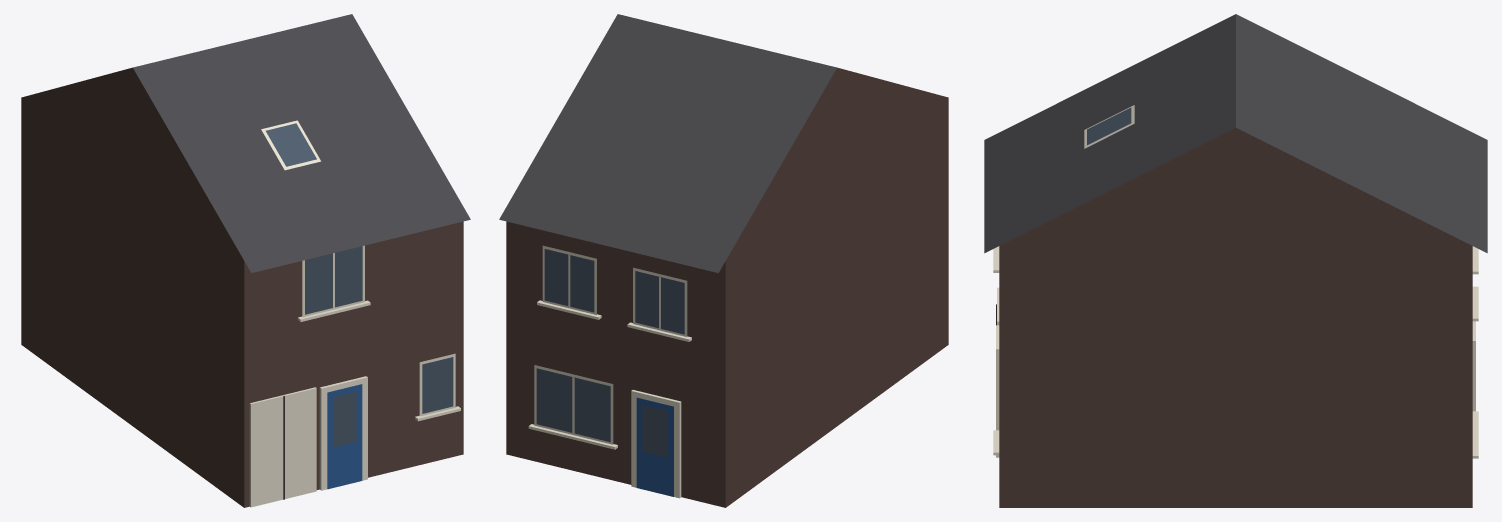
The model's file is nw-rowhouse-garage-door__cream-blue-slate__2__gable__long__solid.glb.
3 views of the same model, side by side, from view 1: azimuth 30°, elevation 25°; view 2: azimuth 150°, elevation 25°; view 3: azimuth 270°, elevation 25° (orthographic). The views are drawn at different scales.
Parts seen in each view (by area): view 1: nw-rowhouse-garage-door__cream-blue-slate__2__gable__long__s; view 2: nw-rowhouse-garage-door__cream-blue-slate__2__gable__long__s; view 3: nw-rowhouse-garage-door__cream-blue-slate__2__gable__long__s.
Part boxes in pixels (left/top/right/bottom): nw-rowhouse-garage-door__cream-blue-slate__2__gable__long__s: left=21, top=14, right=470, bottom=507; nw-rowhouse-garage-door__cream-blue-slate__2__gable__long__s: left=499, top=14, right=948, bottom=507; nw-rowhouse-garage-door__cream-blue-slate__2__gable__long__s: left=984, top=14, right=1487, bottom=507.
Size of the model in its own units: 5.33 by 8.33 by 9.99.
